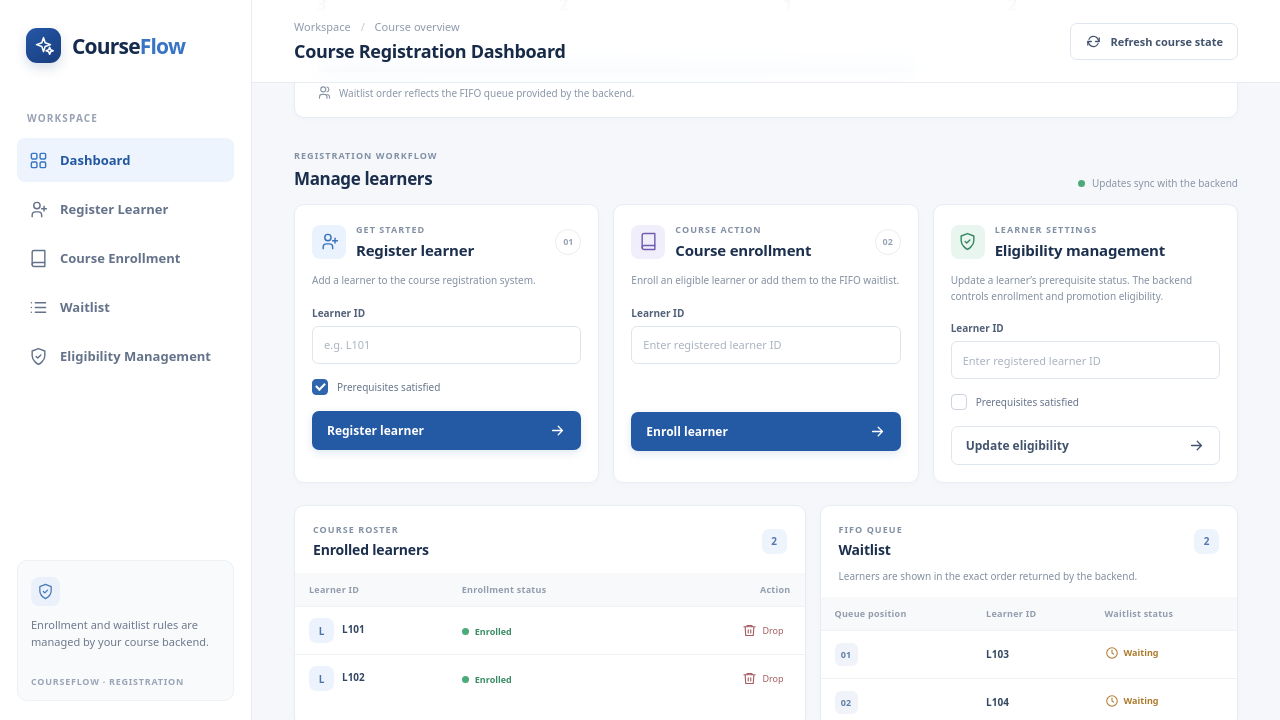
CourseFlow dashboard › sends the selected eligibility boolean and refreshes state
(page scrolled)
In the field labelled "Learner ID" below "LEARNER SETTINGS": (1085, 360) [951, 341, 1220, 379], type "L101"
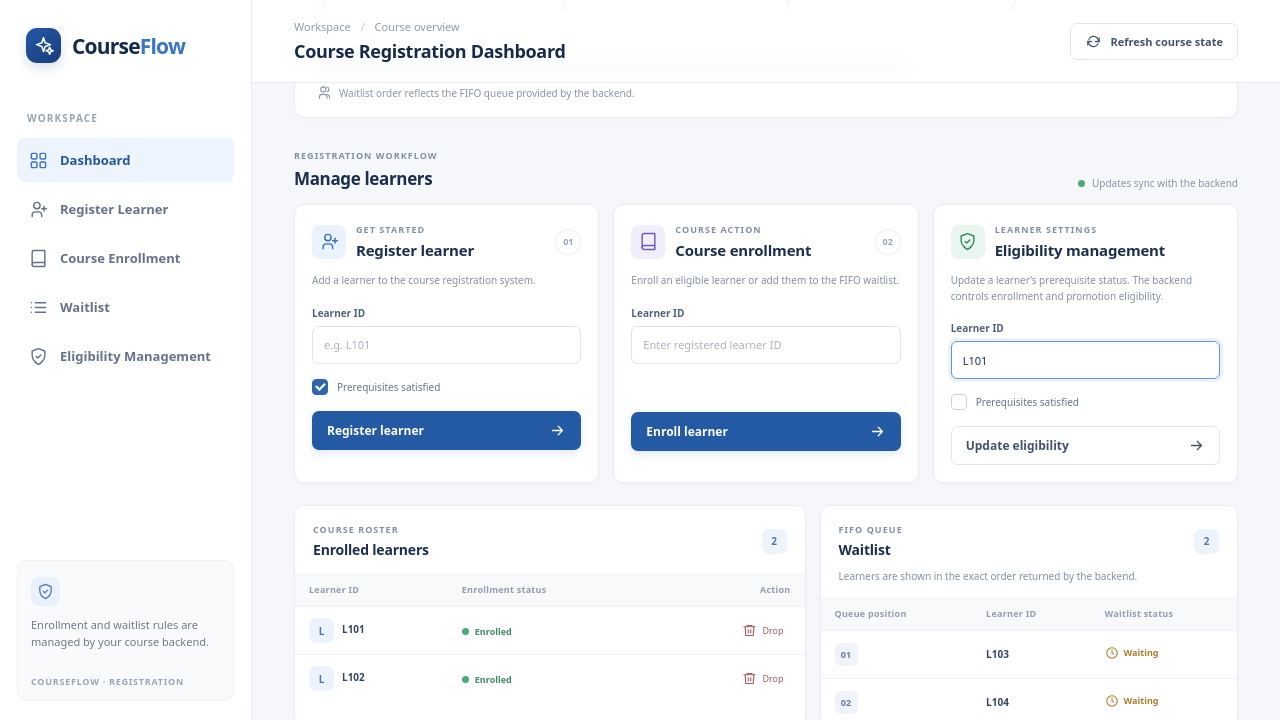
Click the checkbox labelled "Prerequisites satisfied" below "LEARNER SETTINGS": click(1015, 402) [951, 394, 1079, 410]
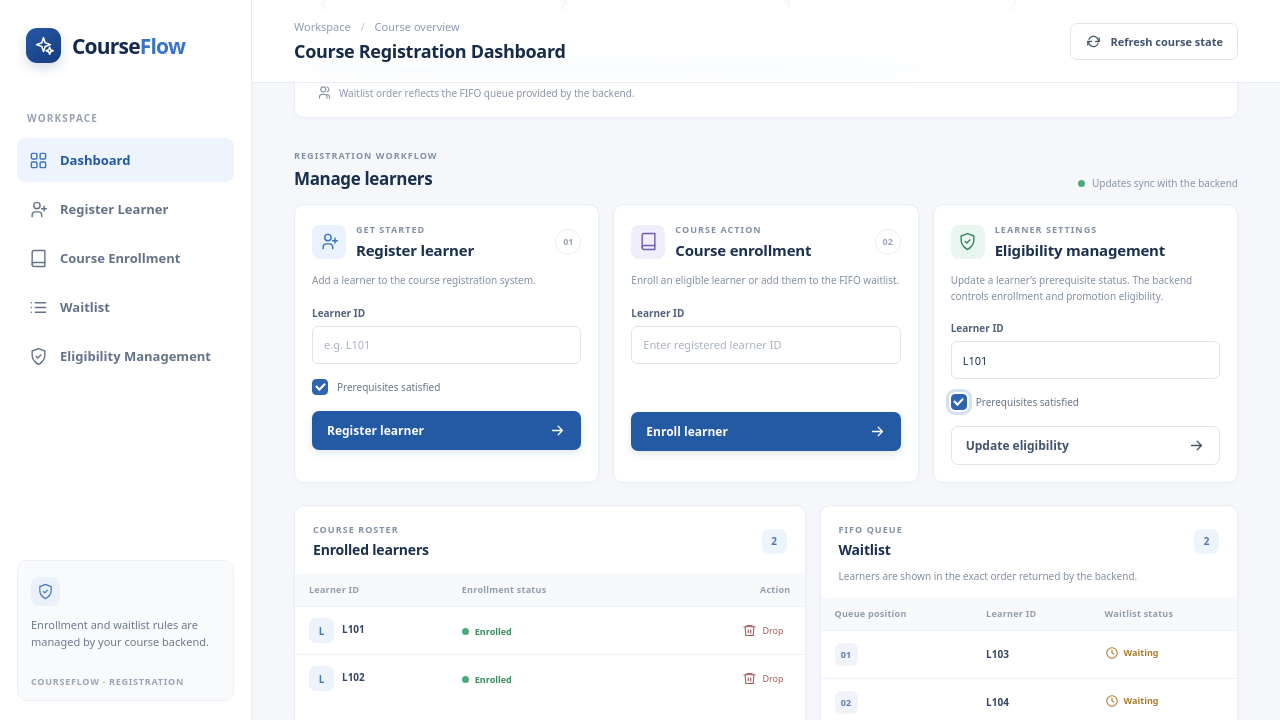
Click the button "Update eligibility": click(1017, 446) [951, 426, 1220, 465]
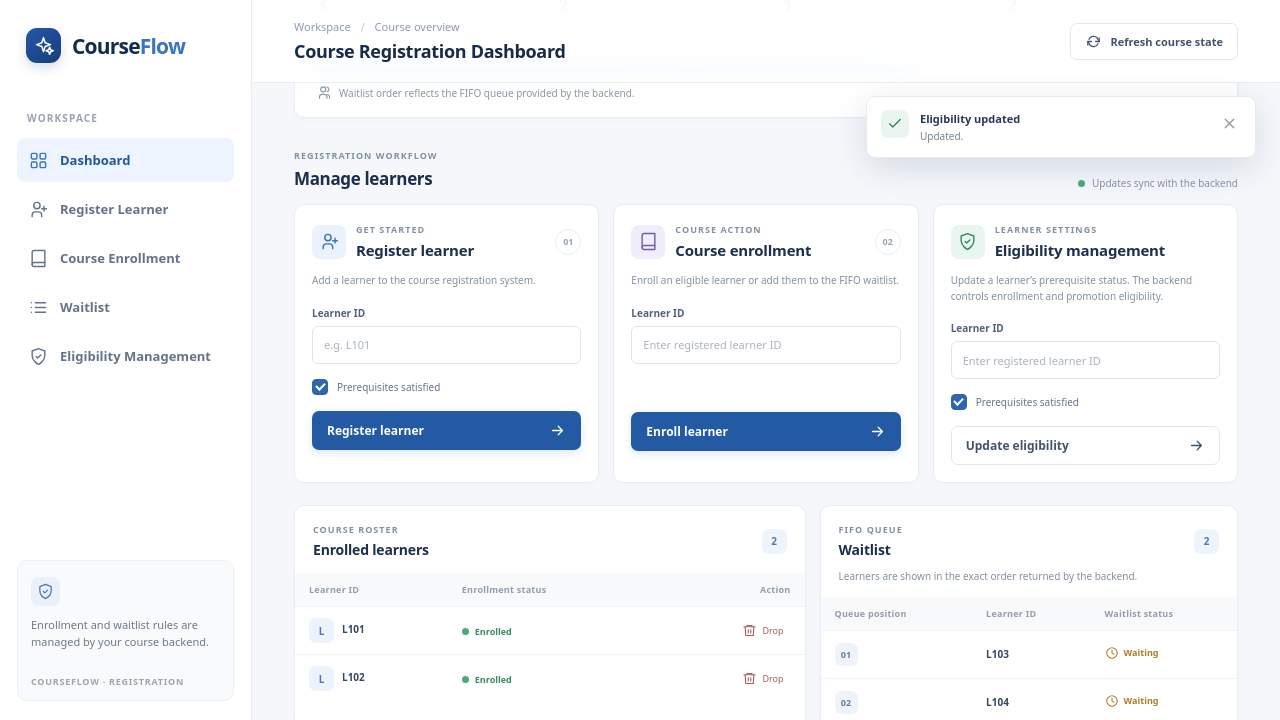
expect the text "Updated." is shown: met, box [920, 129, 963, 143]
